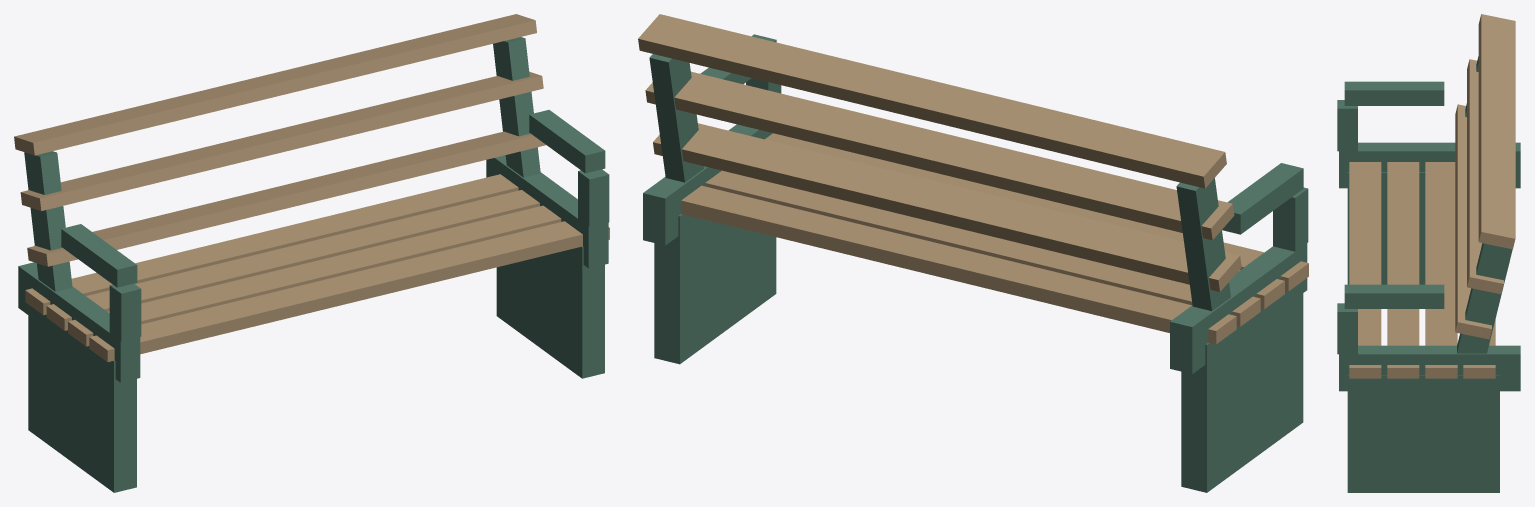
Rendered from botanical-glasshouse-and-palm-house-botanical-glasshou-11a89546__38563.glb.
3 views of the same model, side by side, from view 1: azimuth 30°, elevation 25°; view 2: azimuth 150°, elevation 25°; view 3: azimuth 270°, elevation 25° (orthographic). The views are drawn at different scales.
Parts seen in each view (by area): view 1: botanical-glasshouse-and-palm-house-visitor-bench; view 2: botanical-glasshouse-and-palm-house-visitor-bench; view 3: botanical-glasshouse-and-palm-house-visitor-bench.
Boxes of the visible parts, x1,y1,x2,y2 form: botanical-glasshouse-and-palm-house-visitor-bench: [14, 14, 609, 492]; botanical-glasshouse-and-palm-house-visitor-bench: [638, 14, 1308, 492]; botanical-glasshouse-and-palm-house-visitor-bench: [1337, 14, 1520, 492].
Size of the model in its own units: 1.76 by 0.9926 by 0.6249.
